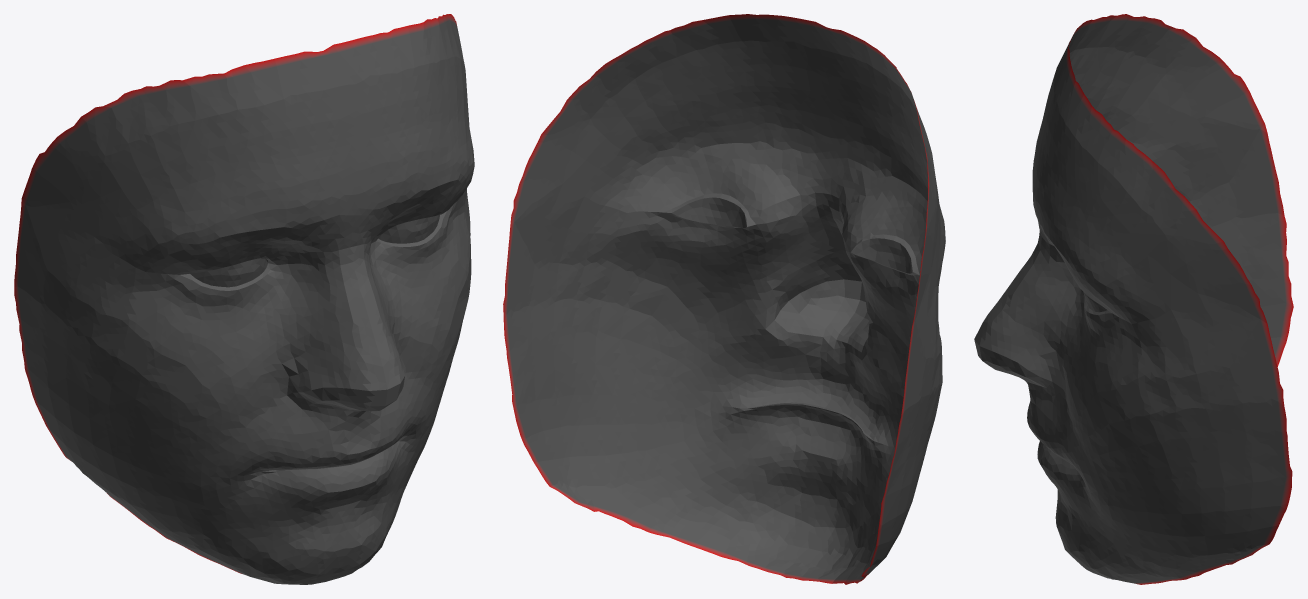
File: boundary.obj
3 views of the same model, side by side, from view 1: azimuth 30°, elevation 25°; view 2: azimuth 150°, elevation 25°; view 3: azimuth 270°, elevation 25° (orthographic). The views are drawn at different scales.
Bounding box in the file's own units: 15.05 × 18.95 × 10.63.
